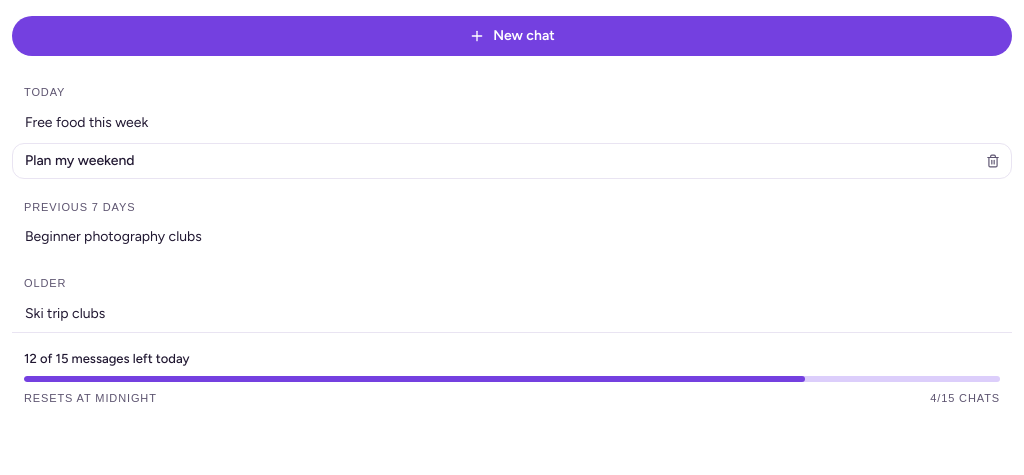
Test: ConversationSidebar › puts the row back on cancel without deleting
Click the button named "Delete Plan my weekend".
click(993, 160)  # box [979,146,1007,174]
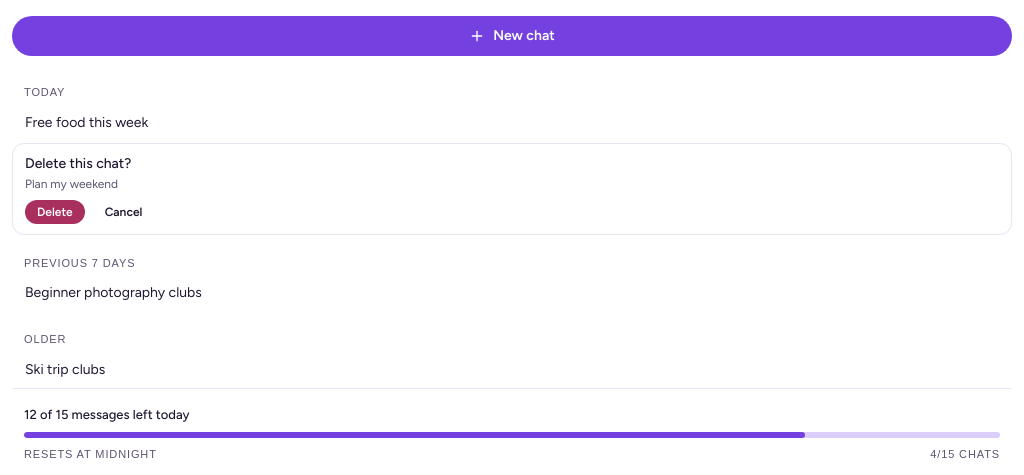
Click the button "Cancel".
click(124, 212)  # box [93,200,154,224]
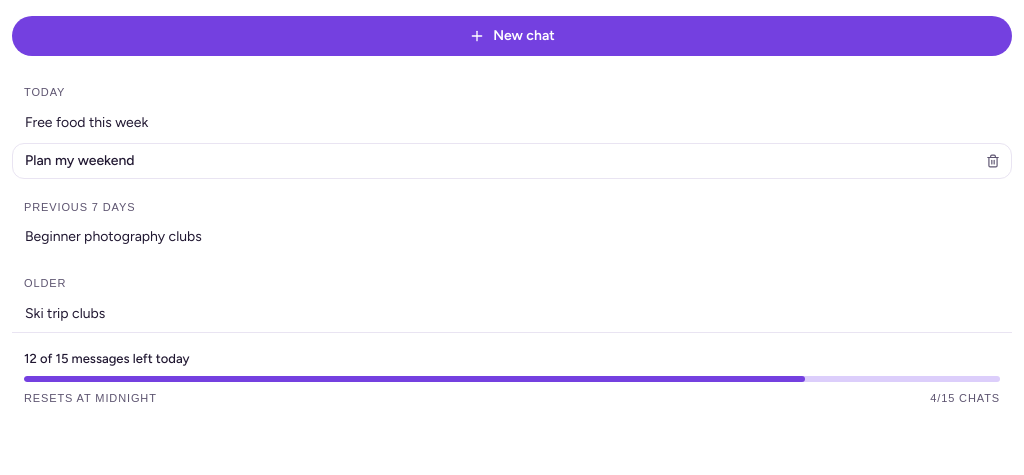
expect the link "Plan my weekend" is shown: met, box [25,152,135,168]
expect the text "Delete this chat?" is gone: met
